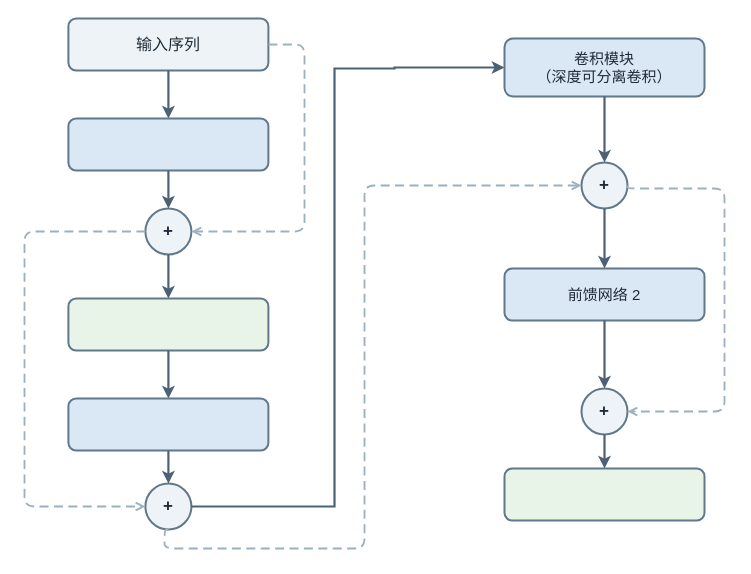
This 751x574 diagram has some shape labels left out. Each missing label, with the centre of its shape:
前馈网络 1: (x=168, y=144)
层归一化: (x=168, y=324)
最终层归一化: (x=604, y=494)
相对位置多头自注意力: (x=168, y=424)
